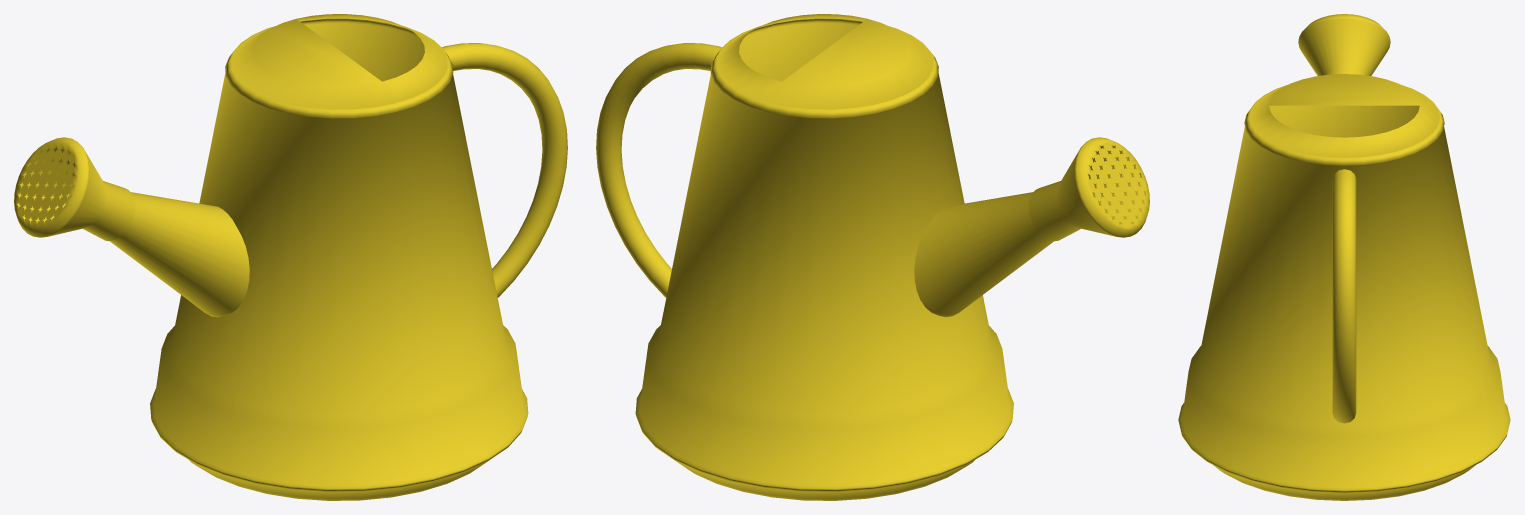
3 views of the same model, side by side, from view 1: azimuth 30°, elevation 25°; view 2: azimuth 150°, elevation 25°; view 3: azimuth 270°, elevation 25° (orthographic). The views are drawn at different scales.
Parts seen in each view (by area): view 1: 圆环, 柱体, 环体; view 2: 圆环, 柱体, 环体; view 3: 圆环, 环体, 柱体.
Boxes of the visible parts, box(x1,y1,x2,y2) form: 圆环: box(150, 14, 528, 500); 柱体: box(14, 137, 249, 317); 环体: box(442, 43, 567, 297); 圆环: box(635, 14, 1013, 500); 柱体: box(914, 137, 1149, 317); 环体: box(596, 43, 721, 297); 圆环: box(1178, 74, 1510, 500); 环体: box(1332, 169, 1356, 423); 柱体: box(1298, 14, 1390, 75).
Size of the model in its own units: 3.26 by 2.23 by 1.98.
